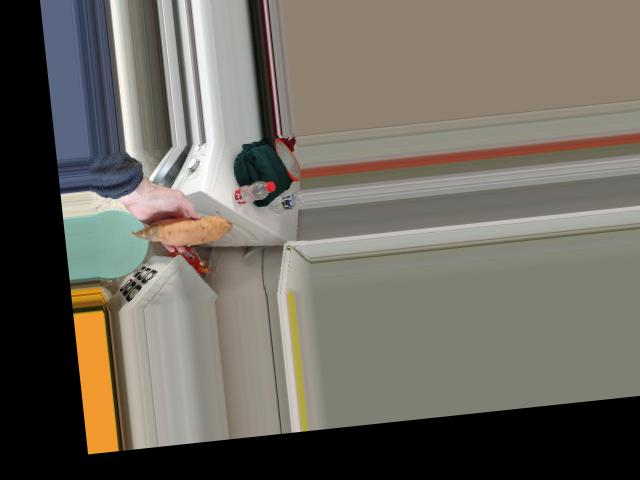sweet_potato: (150, 207, 221, 244)
